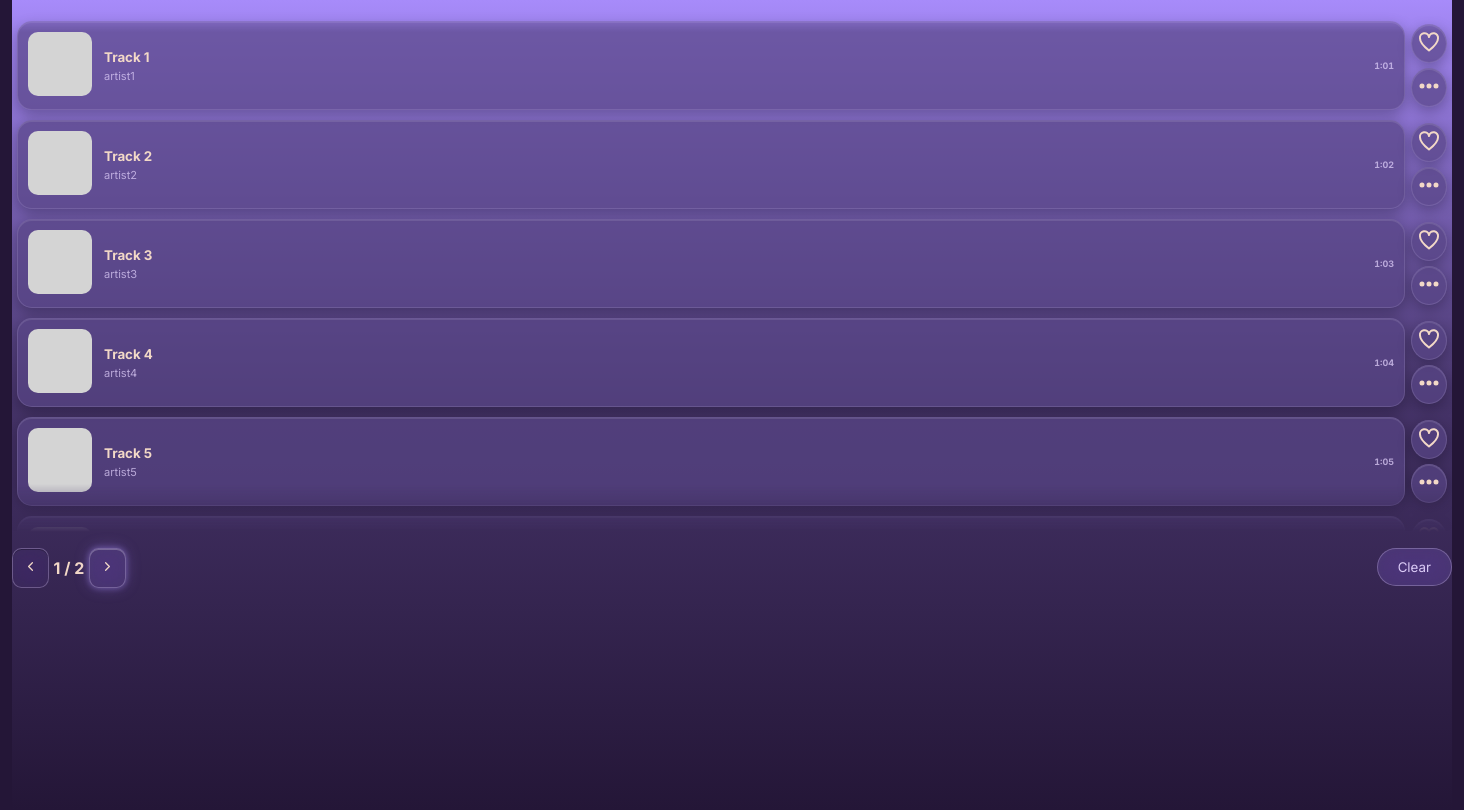
Scenario: RecentsList › paginates at 10 tracks per page
Expected: the text "Track 11" is not shown
Expected: the text "1 / 2" is shown, [54,558,84,578]
Step 1. Click the 2nd button with alt text "next" → {"x": 107, "y": 568}, box [89,548,126,588]
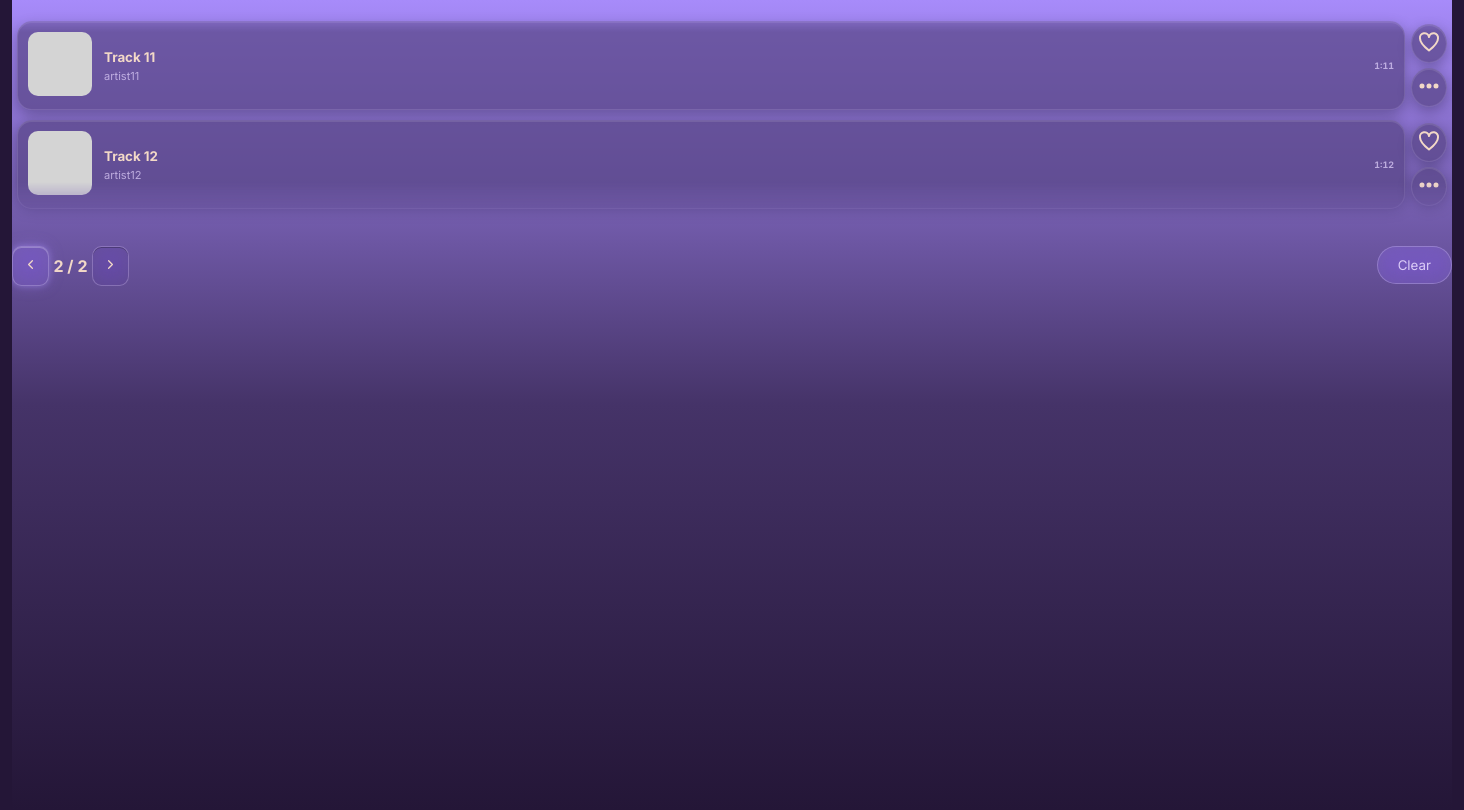
Expected: the heading "Track 11" is shown, [104,48,155,64]
